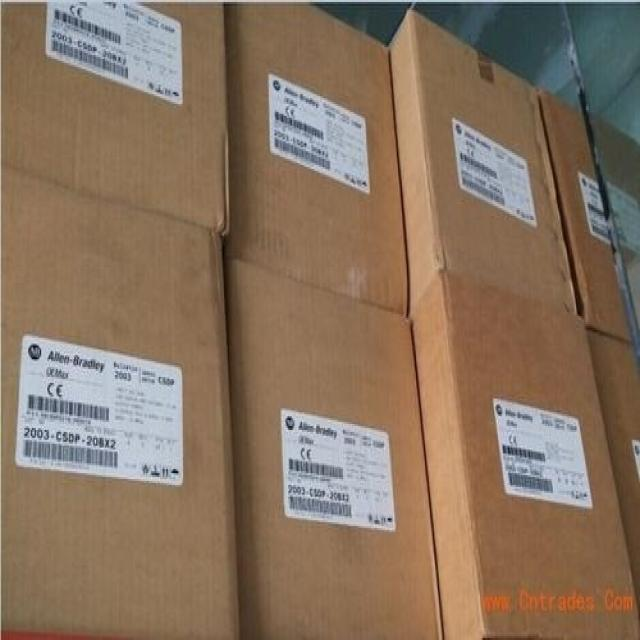Carton: (221, 0, 639, 638), (0, 0, 238, 638)
